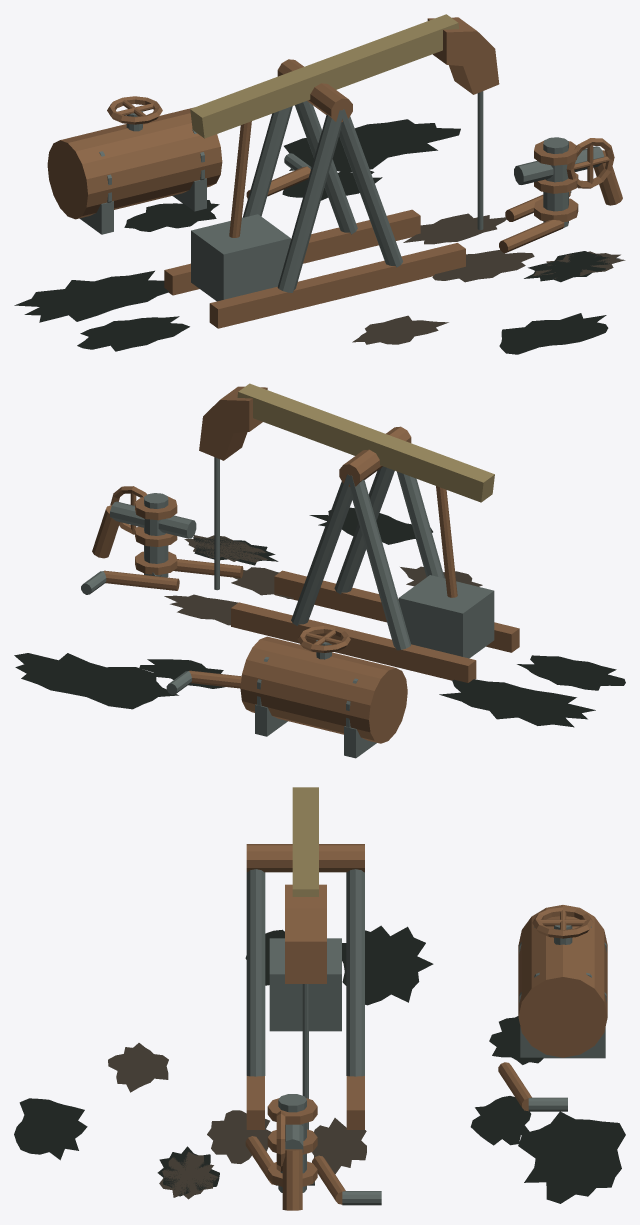
The model's file is oil_medium.glb.
The picture shows the model from 3 angles, top to bottom: view 1: azimuth 30°, elevation 25°; view 2: azimuth 150°, elevation 25°; view 3: azimuth 270°, elevation 25°; orthographic projection. The views are drawn at different scales.
Parts seen in each view (by area): view 1: Cube; view 2: Cube; view 3: Cube.
Boxes of the visible parts, x1,y1,x2,y2 form: Cube: (14,14,625,354); Cube: (14,383,625,758); Cube: (14,787,625,1210).
Bounding box in the file's own units: 6.57 × 2.56 × 5.68.
